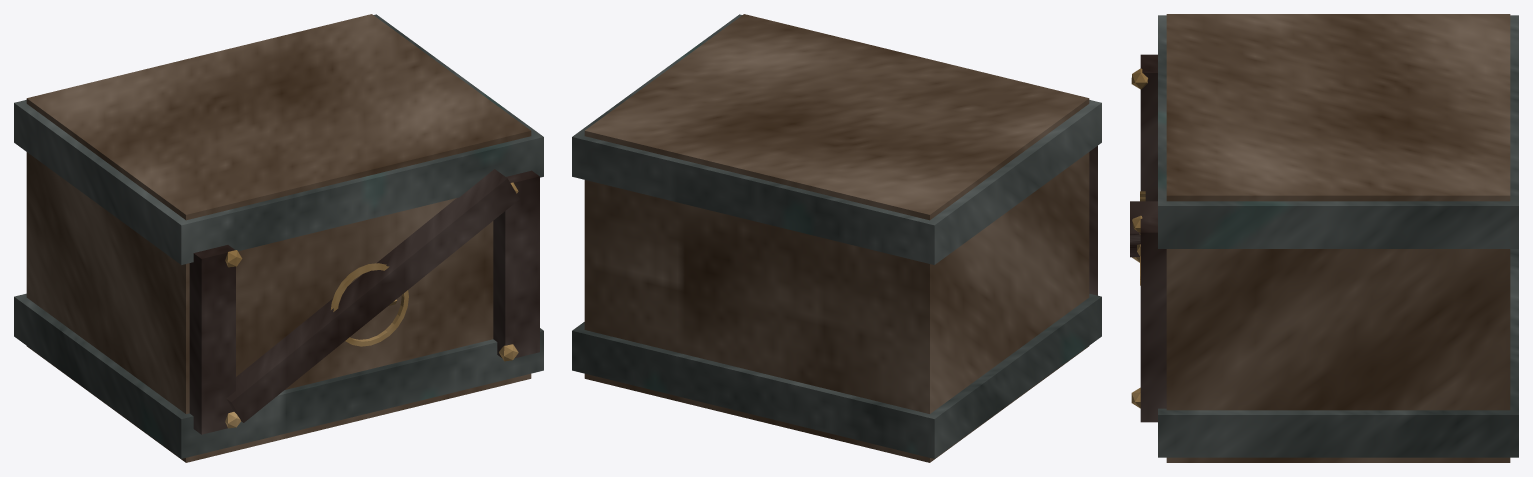
Rendered from 0727_supply_crate_02.glb.
3 renders of one model, left to right at view 1: azimuth 30°, elevation 25°; view 2: azimuth 150°, elevation 25°; view 3: azimuth 270°, elevation 25°, orthographic. The views are drawn at different scales.
Visible parts, largest first — view 1: wood, iron, wood_dark, brass; view 2: wood, iron, wood_dark; view 3: wood, iron, wood_dark, brass.
Boxes of the visible parts, x1,y1,x2,y2 form: wood: (26,14,531,462); iron: (14,14,543,458); wood_dark: (189,169,539,434); brass: (225,182,518,428); wood: (584,14,1089,462); iron: (572,14,1101,458); wood_dark: (1089,146,1097,295); wood: (1166,14,1510,462); iron: (1158,15,1518,457); wood_dark: (1130,54,1166,422); brass: (1131,68,1148,408).
Bounding box in the file's own units: 1.05 × 0.6861 × 0.9045.
Materials: 4 (4 with a texture image).
